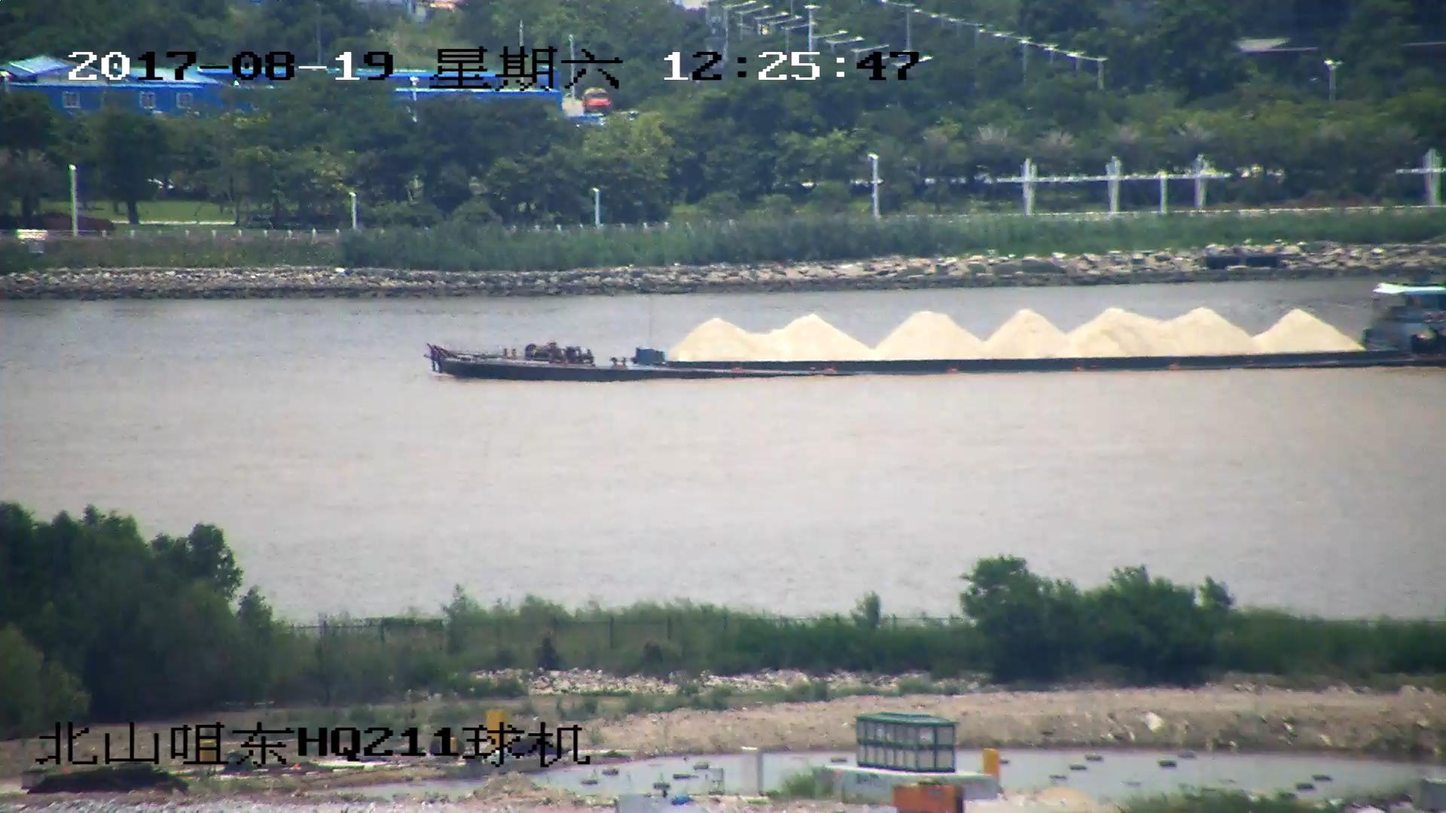ore carrier: (429, 281, 1445, 379)
